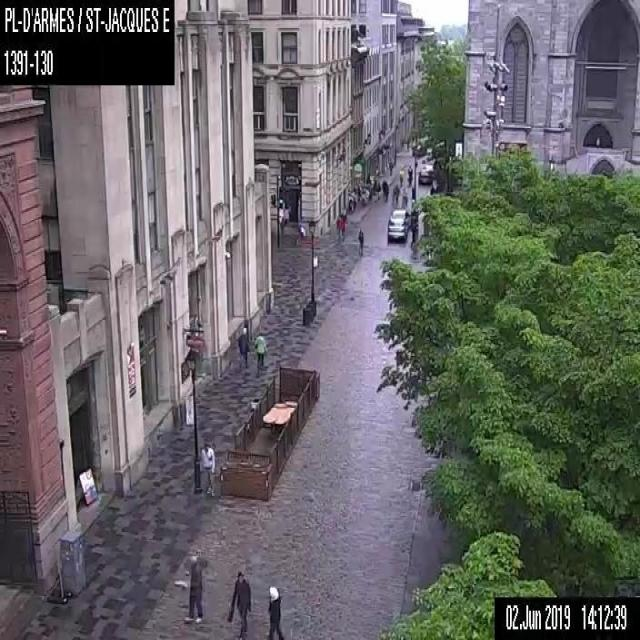pedestrian: (225, 570, 251, 638), (184, 555, 206, 623), (266, 585, 283, 639), (199, 442, 215, 496), (253, 332, 266, 370), (237, 327, 249, 368), (336, 214, 346, 242), (356, 225, 364, 256), (407, 163, 413, 186), (398, 167, 404, 185), (381, 177, 386, 195), (388, 158, 393, 175)
vehicle: (385, 220, 406, 242), (389, 209, 410, 227), (418, 167, 430, 184)
